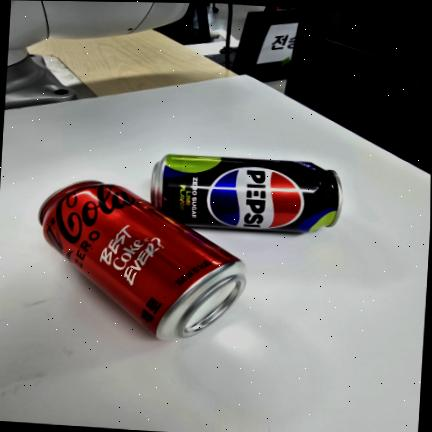can_coke_zero: (39, 180, 243, 339)
can_pepsi_zero: (151, 151, 339, 232)
